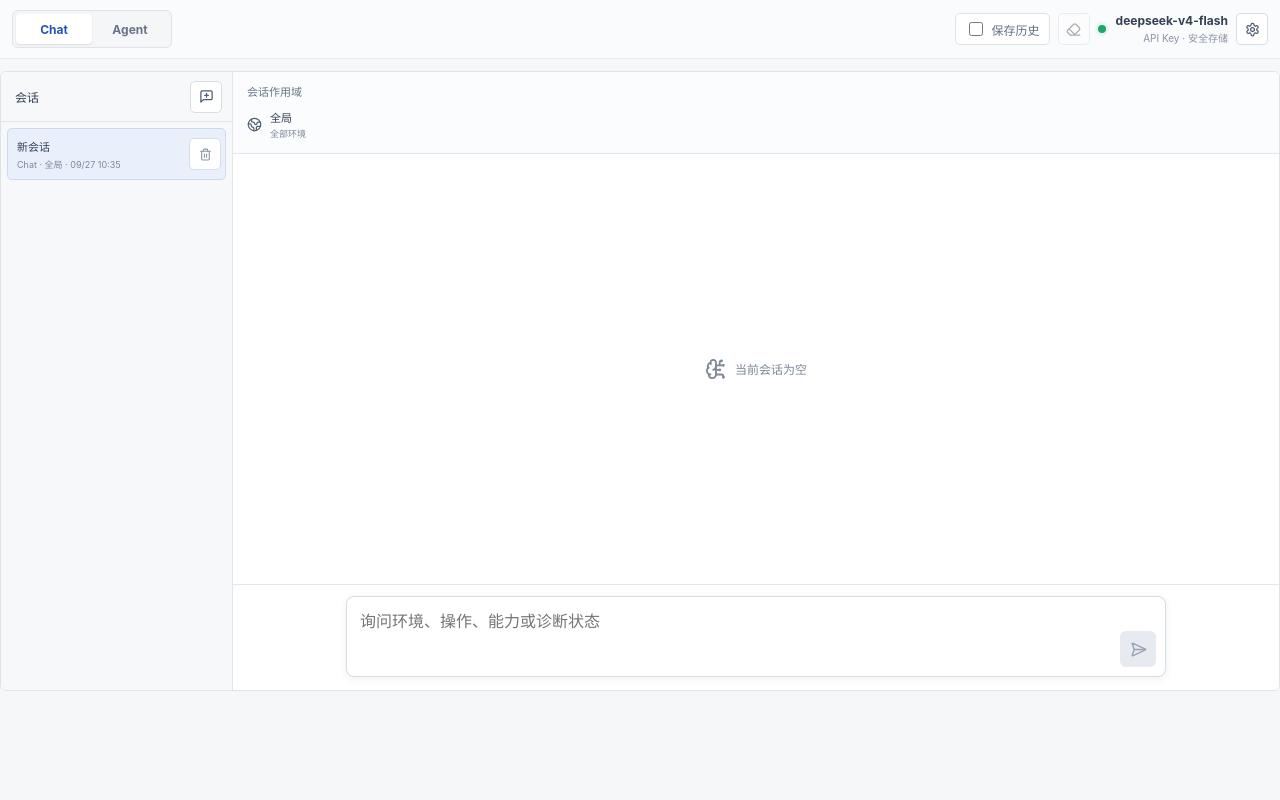
Test: AiPage › scrolls the active conversation to the latest AI reply
In the text box named "AI 请求": (756, 634) left=347, top=597, right=1165, bottom=672, type "滚动到最新消息"
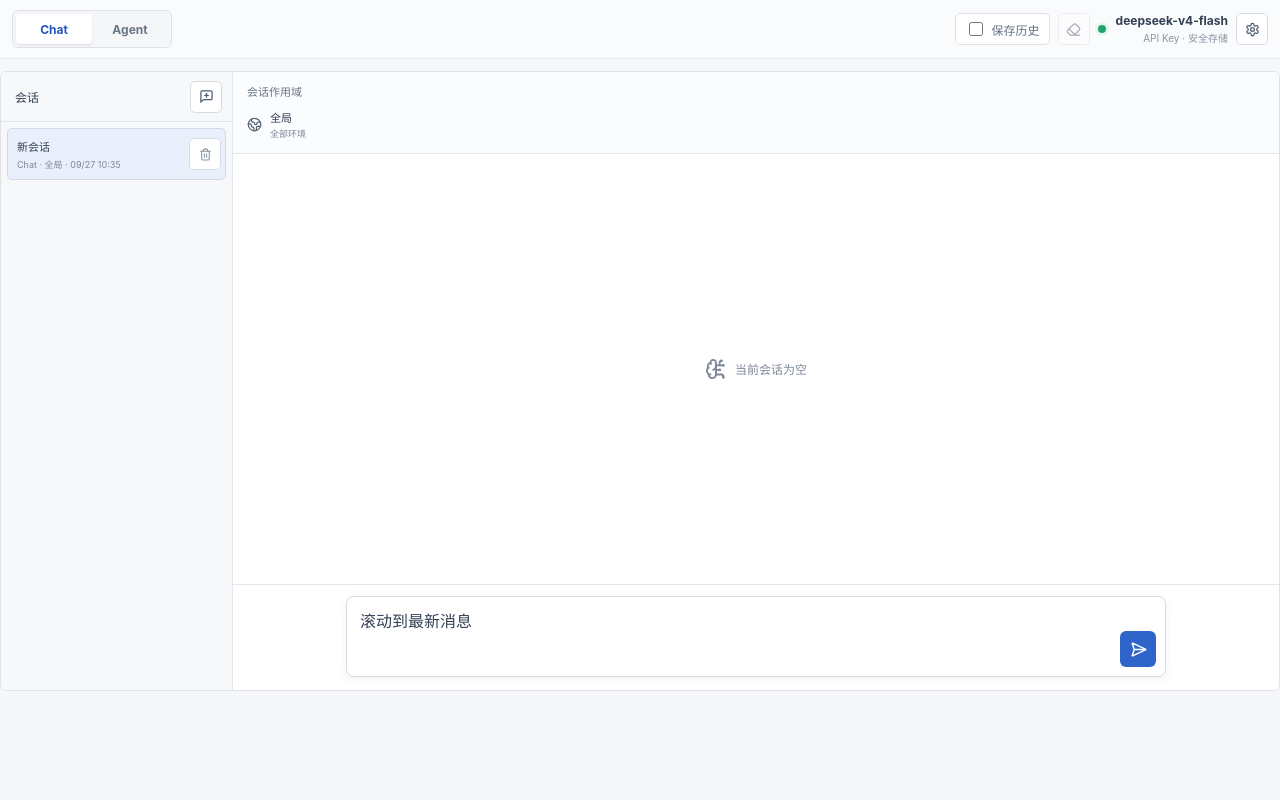
Click the button named "发送": click(1138, 649) left=1120, top=631, right=1156, bottom=667
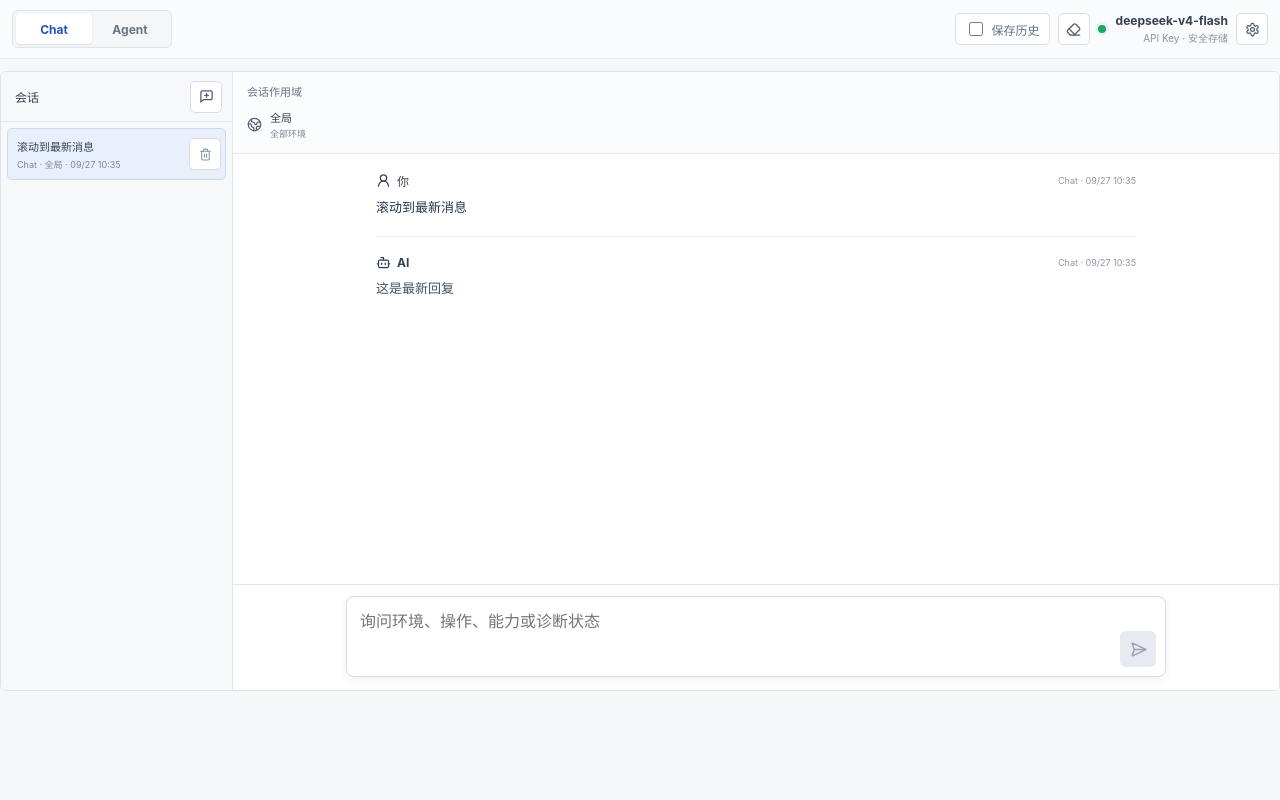
Result: the text "这是最新回复" is shown at left=376, top=280, right=454, bottom=296
